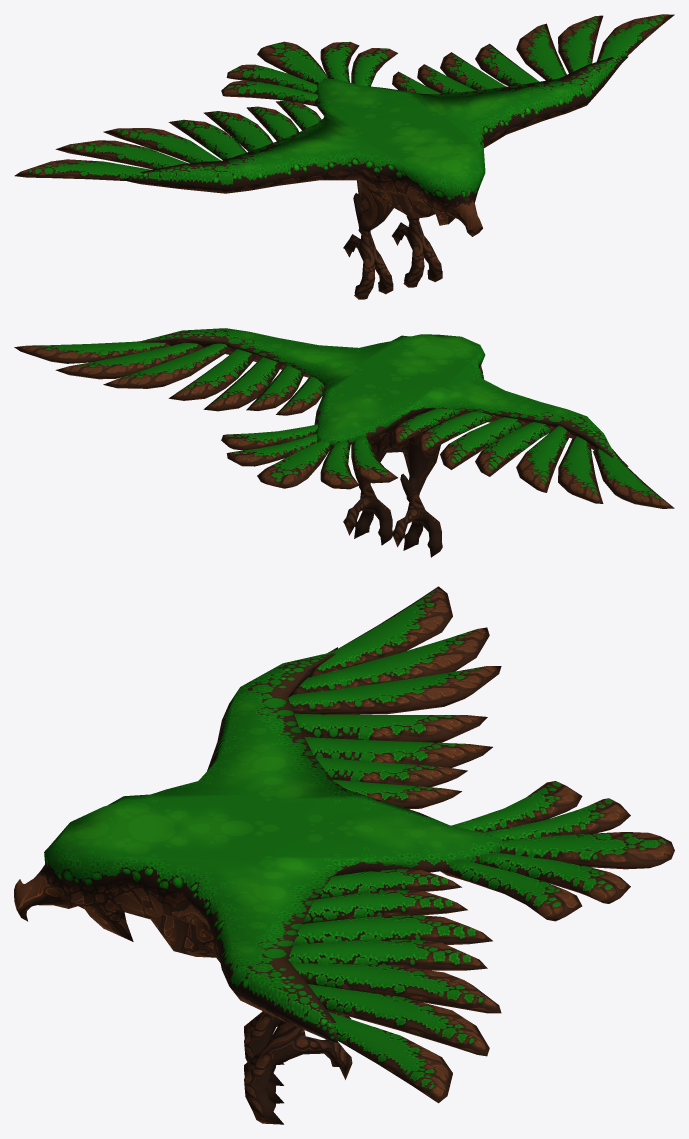
The model's file is Green_EagleIsland.FBX.
3 views of the same model, one above another, from view 1: azimuth 30°, elevation 25°; view 2: azimuth 150°, elevation 25°; view 3: azimuth 270°, elevation 25° (orthographic). The views are drawn at different scales.
Visible parts, largest first — view 1: Green_Eagle; view 2: Green_Eagle; view 3: Green_Eagle.
Part boxes in pixels (x1=…): Green_Eagle: x1=14, y1=14, x2=674, y2=299; Green_Eagle: x1=14, y1=328, x2=674, y2=557; Green_Eagle: x1=14, y1=586, x2=674, y2=1124.
Size of the model in its own units: 17238 by 4140 by 9312.
